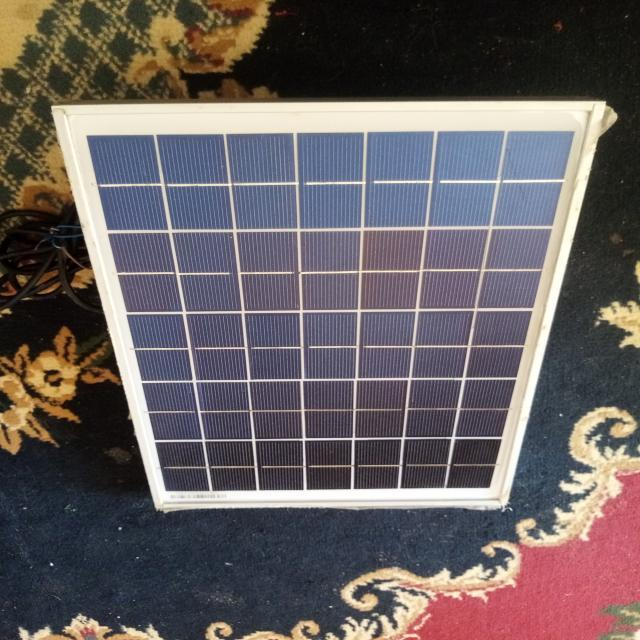Normal Solar Panel: (55, 105, 603, 509)
